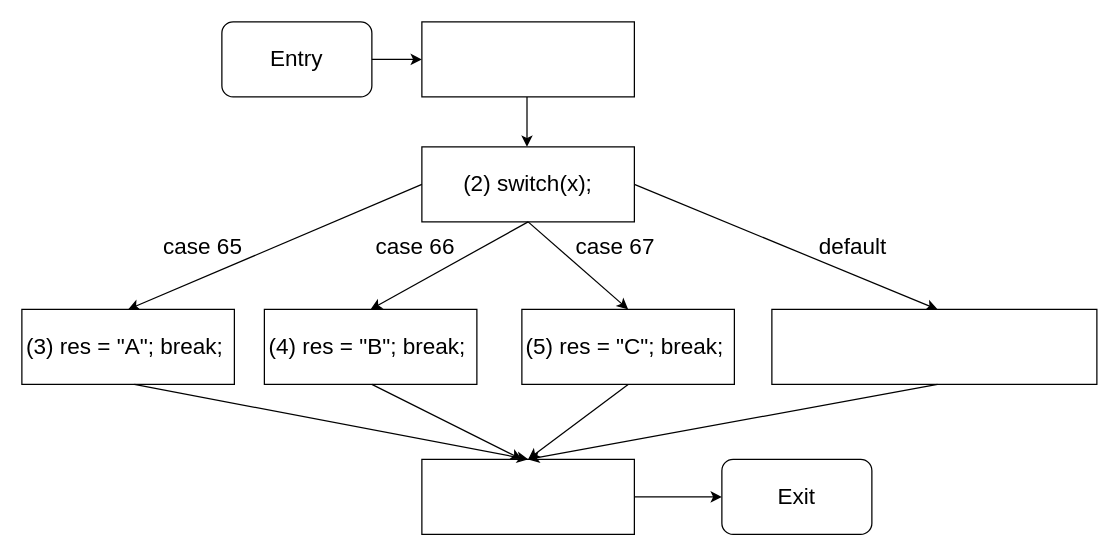
The diagram is 1119 pixels wide and 556 high, and some of its shapes have lost their labels. Here are the shapes that lost their labels. From the top down, the centre of each, then its label:
point (527, 59): (1) string res;
point (934, 346): (6) res = "haven't checked";
point (527, 496): (7) return res;
